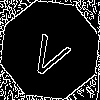V: (25, 25, 77, 82)
